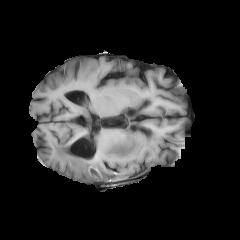glioma: (51, 136, 156, 182)
